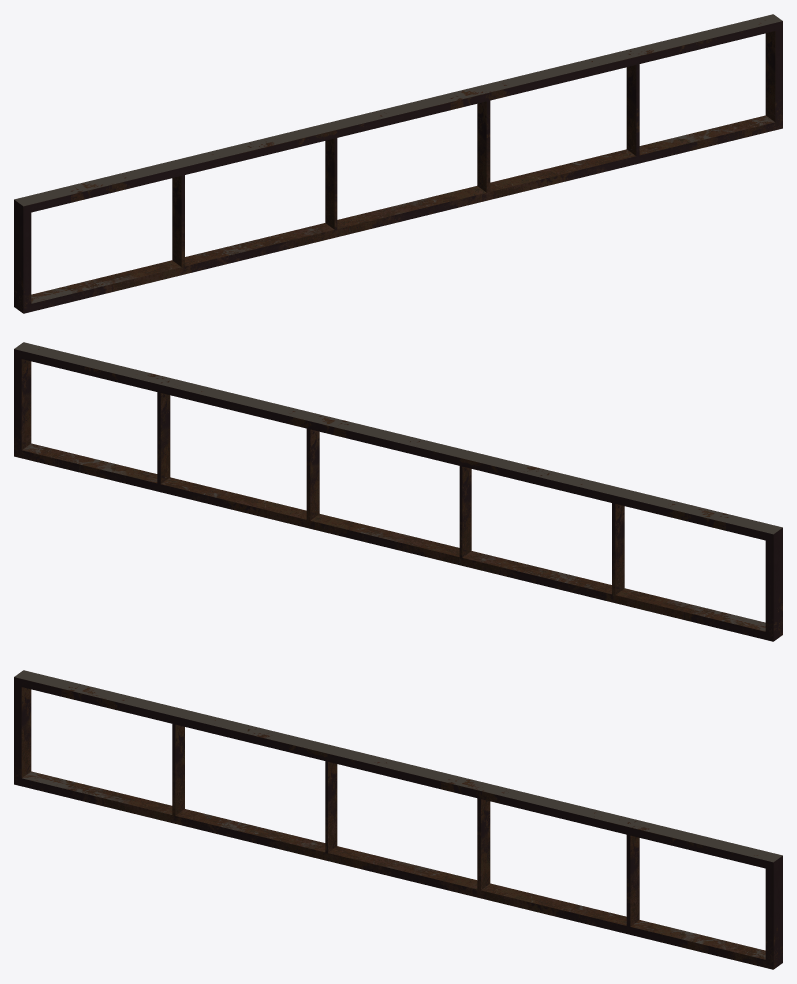
The model's file is VENTANA5.fbx.
3 views of the same model, one above another, from view 1: azimuth 30°, elevation 25°; view 2: azimuth 150°, elevation 25°; view 3: azimuth 330°, elevation 25° (orthographic).
Parts seen in each view (by area): view 1: ventana5; view 2: ventana5; view 3: ventana5.
Boxes of the visible parts, bbox=[...] form: ventana5: bbox=[14, 14, 782, 313]; ventana5: bbox=[14, 342, 782, 641]; ventana5: bbox=[14, 670, 782, 969].
Size of the model in its own units: 370 by 50 by 8.
